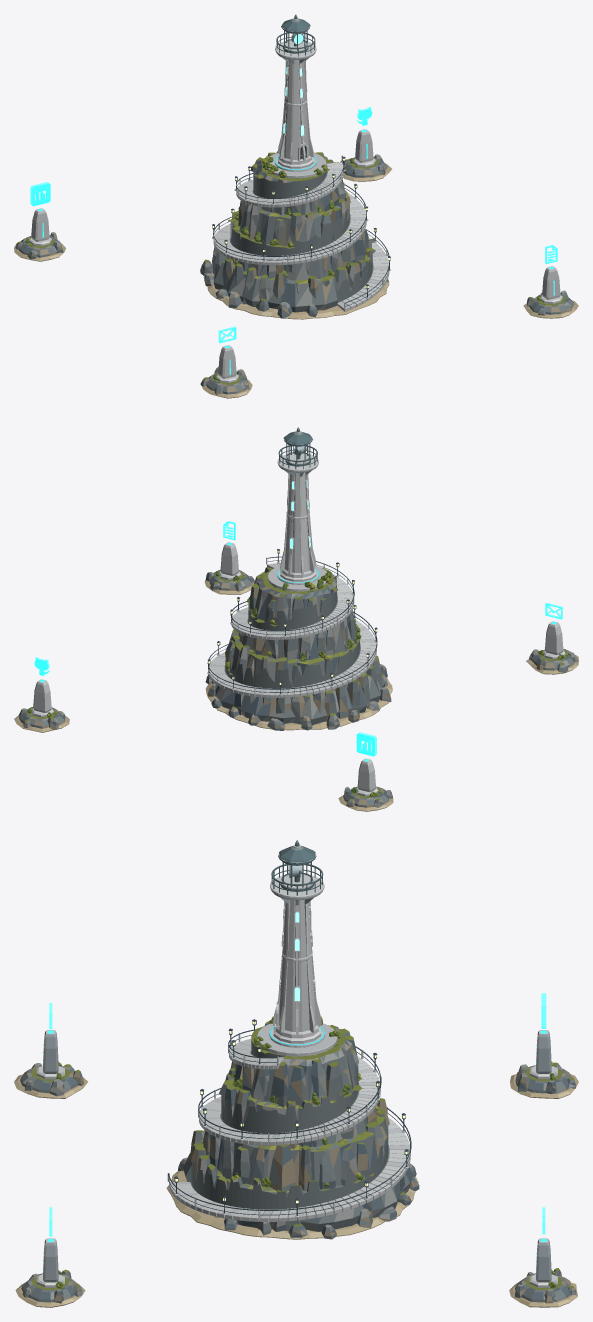
Rendered from lumina_point_web.glb.
The picture shows the model from 3 angles, top to bottom: view 1: azimuth 30°, elevation 25°; view 2: azimuth 150°, elevation 25°; view 3: azimuth 270°, elevation 25°; orthographic projection. The views are drawn at different scales.
Parts seen in each view (by area): view 1: Static_MainIsland, Static_Lighthouse, Static_Monolith_Email, Static_Monolith_Document, Static_Monolith_LinkedIn, Static_Monolith_GitHub, Static_Lantern; view 2: Static_MainIsland, Static_Lighthouse, Static_Monolith_LinkedIn, Static_Monolith_GitHub, Static_Monolith_Email, Static_Monolith_Document, Static_Lantern; view 3: Static_MainIsland, Static_Lighthouse, Static_Monolith_Email, Static_Monolith_GitHub, Static_Monolith_LinkedIn, Static_Monolith_Document, Static_Lantern.
Boxes of the visible parts, bbox=[...] form: Static_MainIsland: bbox=[200, 151, 390, 319]; Static_Lighthouse: bbox=[275, 32, 316, 168]; Static_Monolith_Email: bbox=[200, 345, 252, 398]; Static_Monolith_Document: bbox=[523, 266, 578, 318]; Static_Monolith_LinkedIn: bbox=[14, 208, 65, 261]; Static_Monolith_GitHub: bbox=[340, 129, 391, 181]; Static_Lantern: bbox=[281, 14, 310, 53]; Static_MainIsland: bbox=[205, 549, 392, 730]; Static_Lighthouse: bbox=[277, 445, 318, 581]; Static_Monolith_LinkedIn: bbox=[338, 758, 393, 811]; Static_Monolith_GitHub: bbox=[14, 679, 69, 732]; Static_Monolith_Email: bbox=[526, 621, 578, 674]; Static_Monolith_Document: bbox=[204, 542, 254, 594]; Static_Lantern: bbox=[283, 427, 312, 466]; Static_MainIsland: bbox=[166, 1016, 419, 1239]; Static_Lighthouse: bbox=[270, 864, 324, 1043]; Static_Monolith_Email: bbox=[14, 1030, 87, 1098]; Static_Monolith_GitHub: bbox=[509, 1238, 577, 1307]; Static_Monolith_LinkedIn: bbox=[510, 1030, 578, 1098]; Static_Monolith_Document: bbox=[15, 1238, 85, 1307]; Static_Lantern: bbox=[278, 840, 316, 891].
Bounding box in the file's own units: 21.05 × 14.36 × 21.07.
